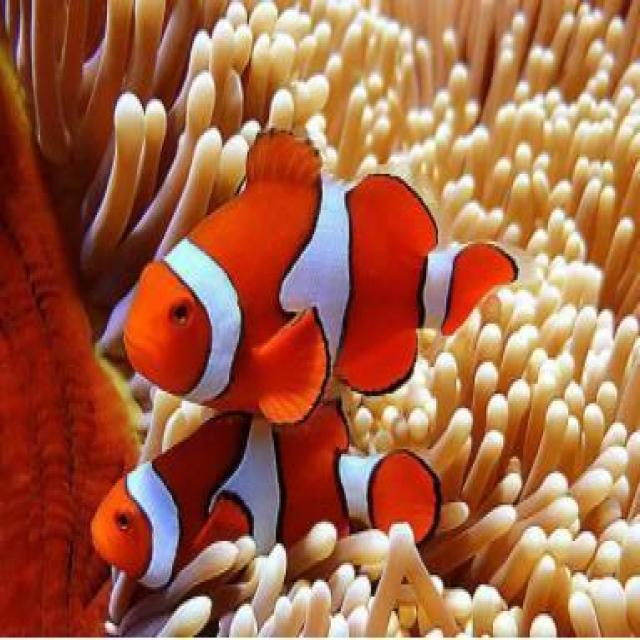ClownFish: (121, 130, 514, 400), (93, 411, 441, 584)
